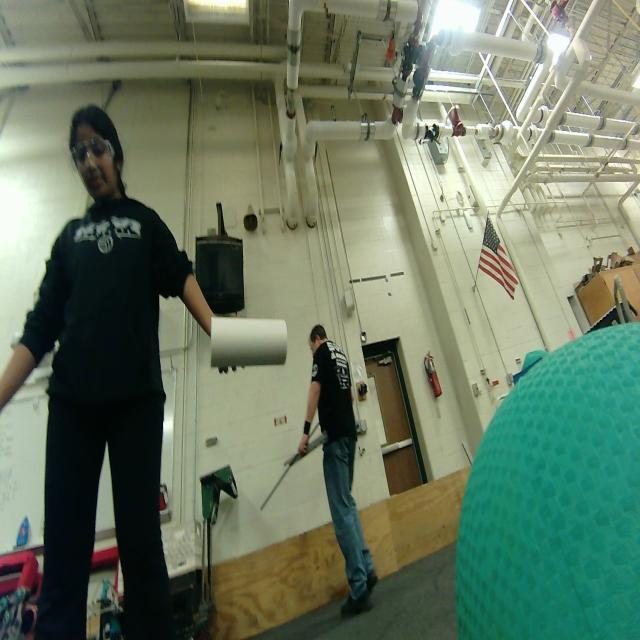algae: (456, 323, 640, 639)
coral: (210, 316, 287, 368)
